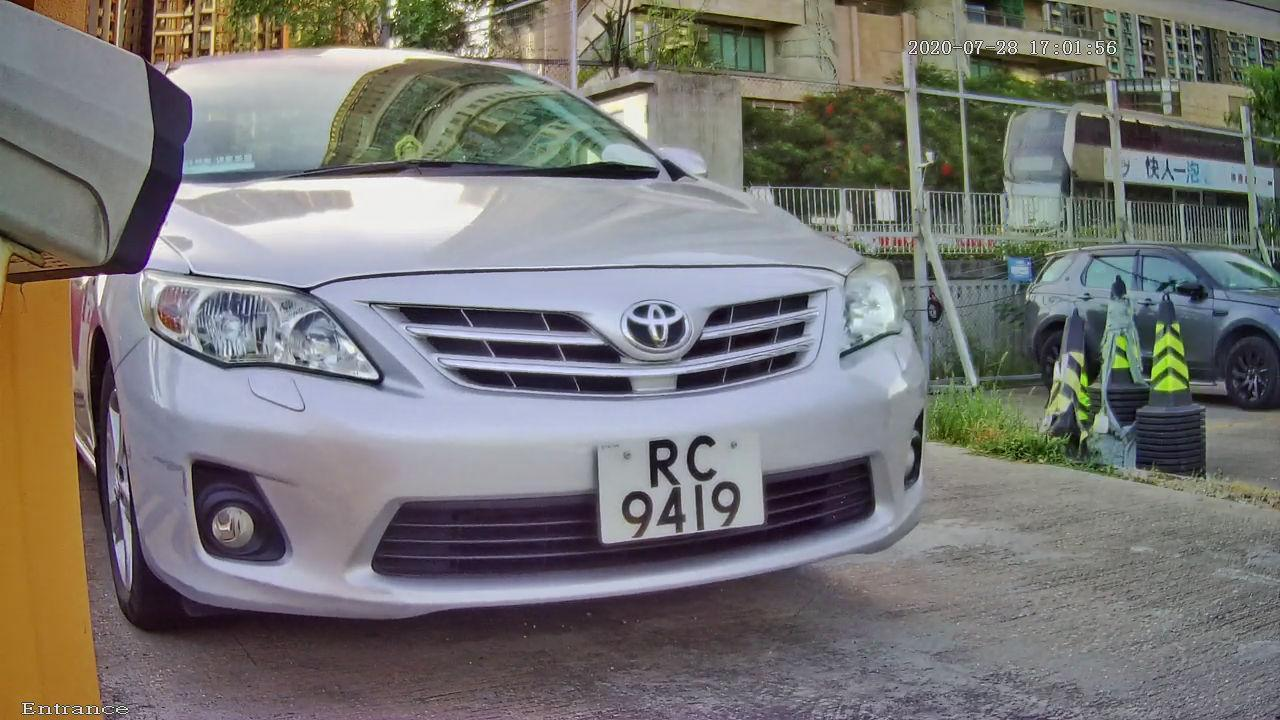privatecar: (29, 17, 1098, 672)
